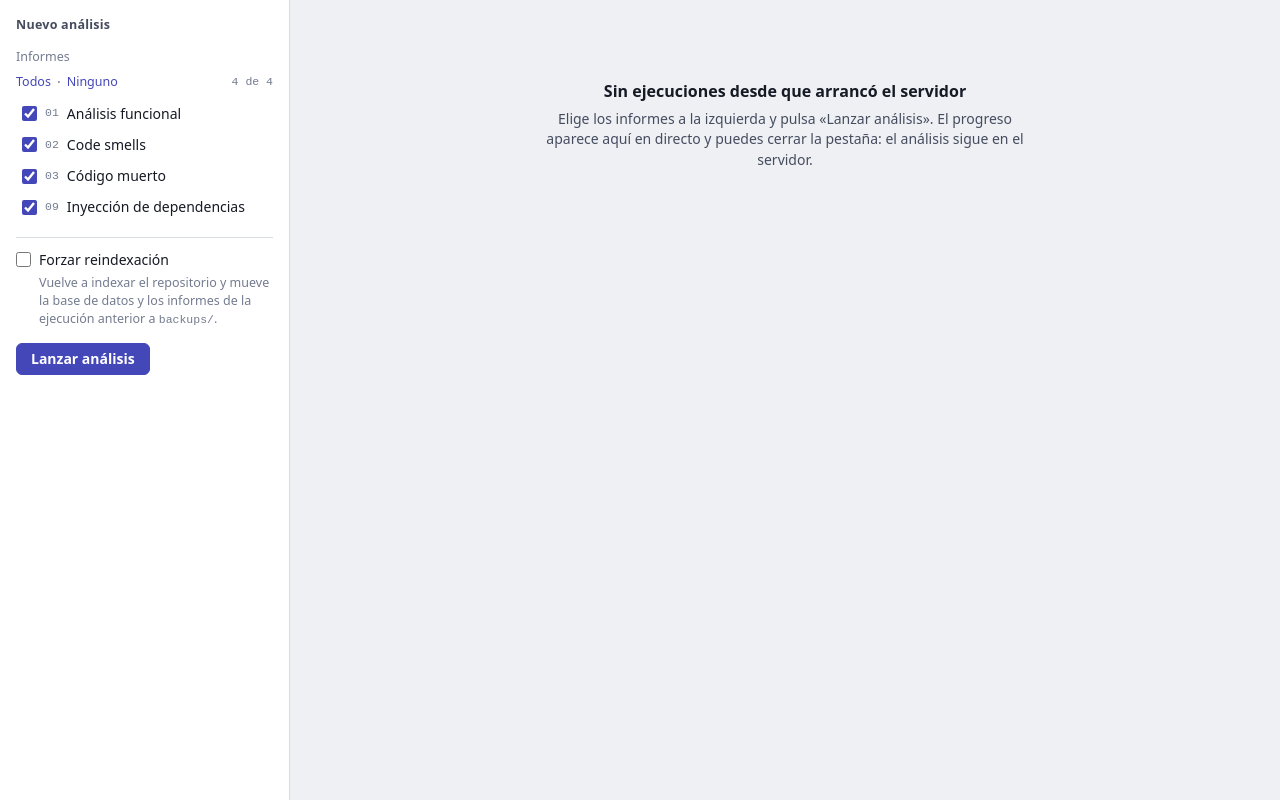
Test: AnalysisLauncher › un 409 analysis_running se comunica y engancha la ejecución que ya corre
Click the button "Lanzar análisis": coordinates (83, 359) [16, 343, 150, 375]
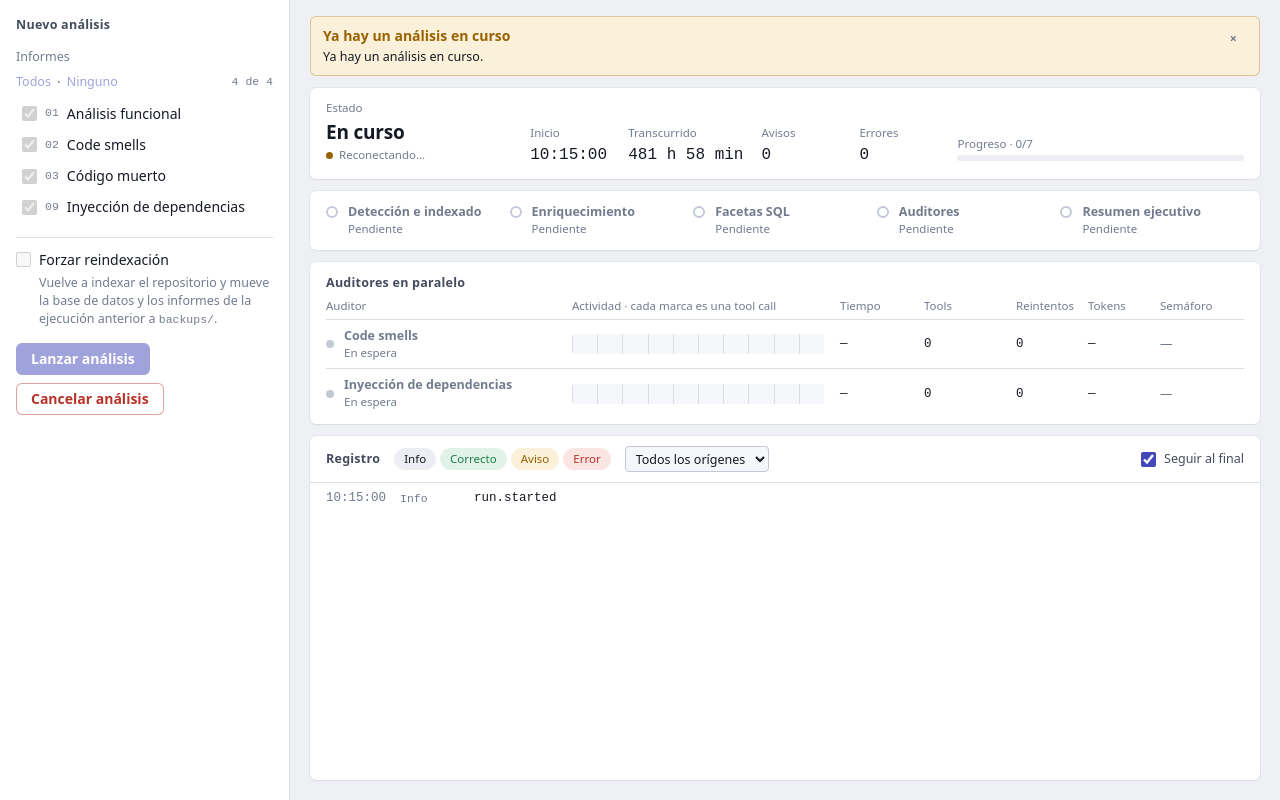
expect the text "Ya hay un análisis en curso." is shown: met, box [323, 48, 483, 65]
